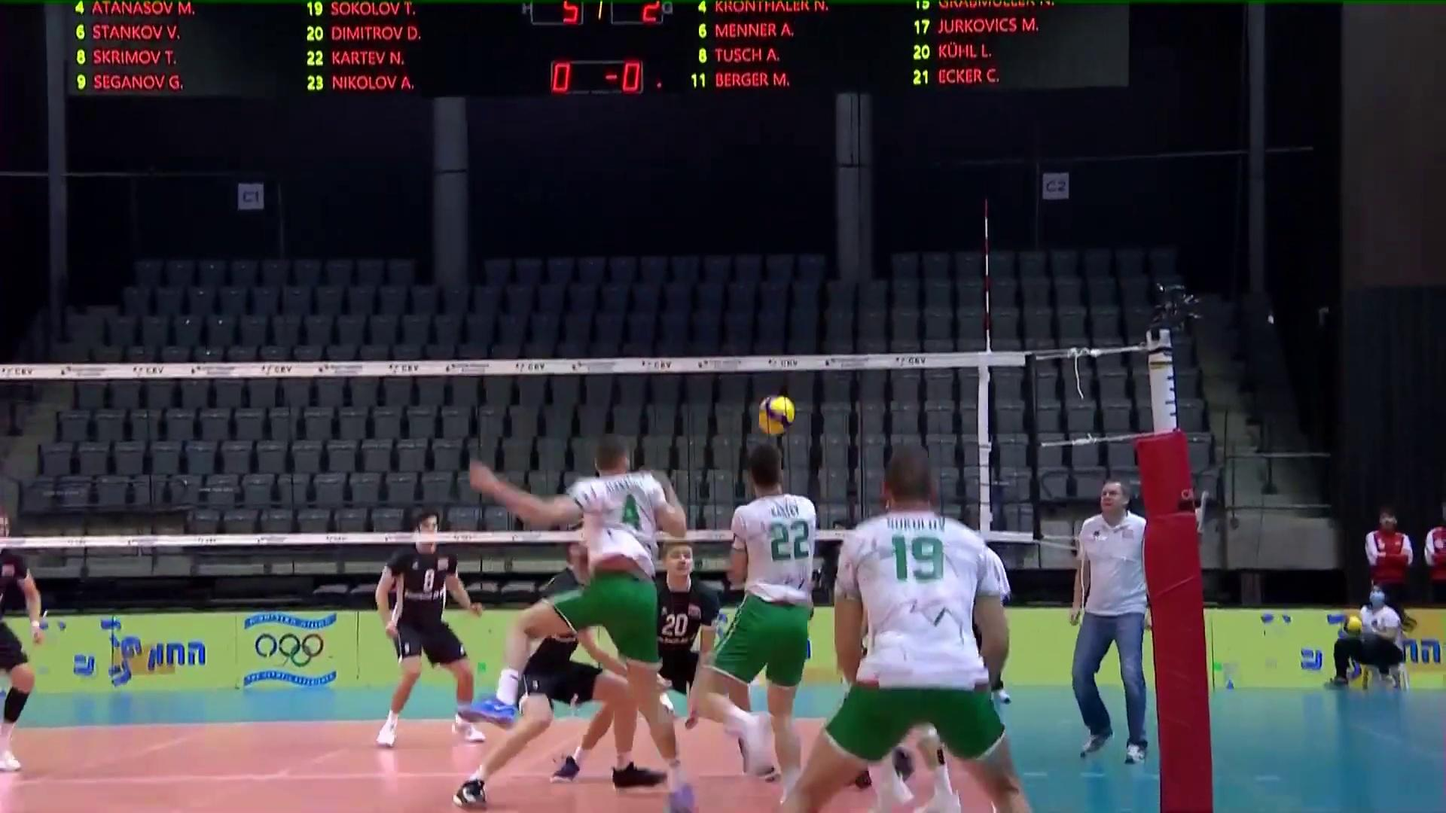ball: (757, 393, 796, 434)
